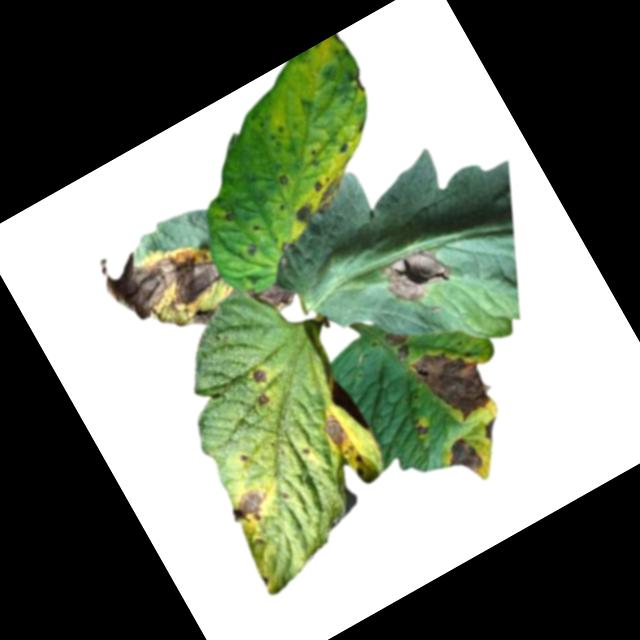Early_blight: (90, 211, 239, 360), (407, 331, 501, 430), (374, 233, 457, 311), (305, 168, 360, 218), (222, 482, 276, 532), (249, 271, 301, 321), (439, 431, 487, 481), (316, 407, 355, 453), (380, 322, 418, 362), (288, 199, 320, 230), (475, 414, 505, 444), (410, 414, 432, 439), (249, 363, 271, 388), (242, 239, 262, 258), (219, 204, 238, 224), (256, 389, 274, 407), (277, 172, 290, 185)
